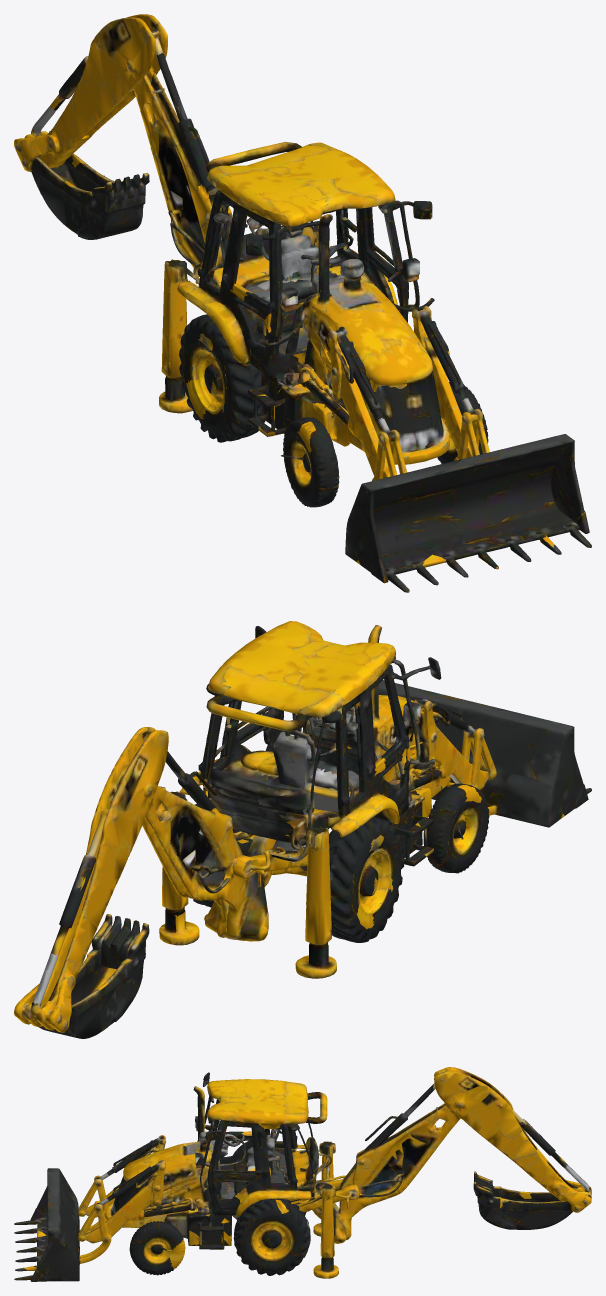
File: bull1.glb
The picture shows the model from 3 angles, top to bottom: view 1: azimuth 30°, elevation 25°; view 2: azimuth 150°, elevation 25°; view 3: azimuth 270°, elevation 25°; orthographic projection. The views are drawn at different scales.
Parts seen in each view (by area): view 1: Bulldozer, Loader; view 2: Bulldozer, Loader; view 3: Bulldozer, Loader.
Boxes of the visible parts, <box> form: Bulldozer: <box>14,14,488,507</box>; Loader: <box>328,306,591,592</box>; Bulldozer: <box>14,621,489,1038</box>; Loader: <box>378,680,591,827</box>; Bulldozer: <box>113,1067,591,1278</box>; Loader: <box>14,1135,165,1281</box>.
Size of the model in its own units: 1.57 by 2.13 by 6.08.
Materials: 1 (1 with a texture image).
